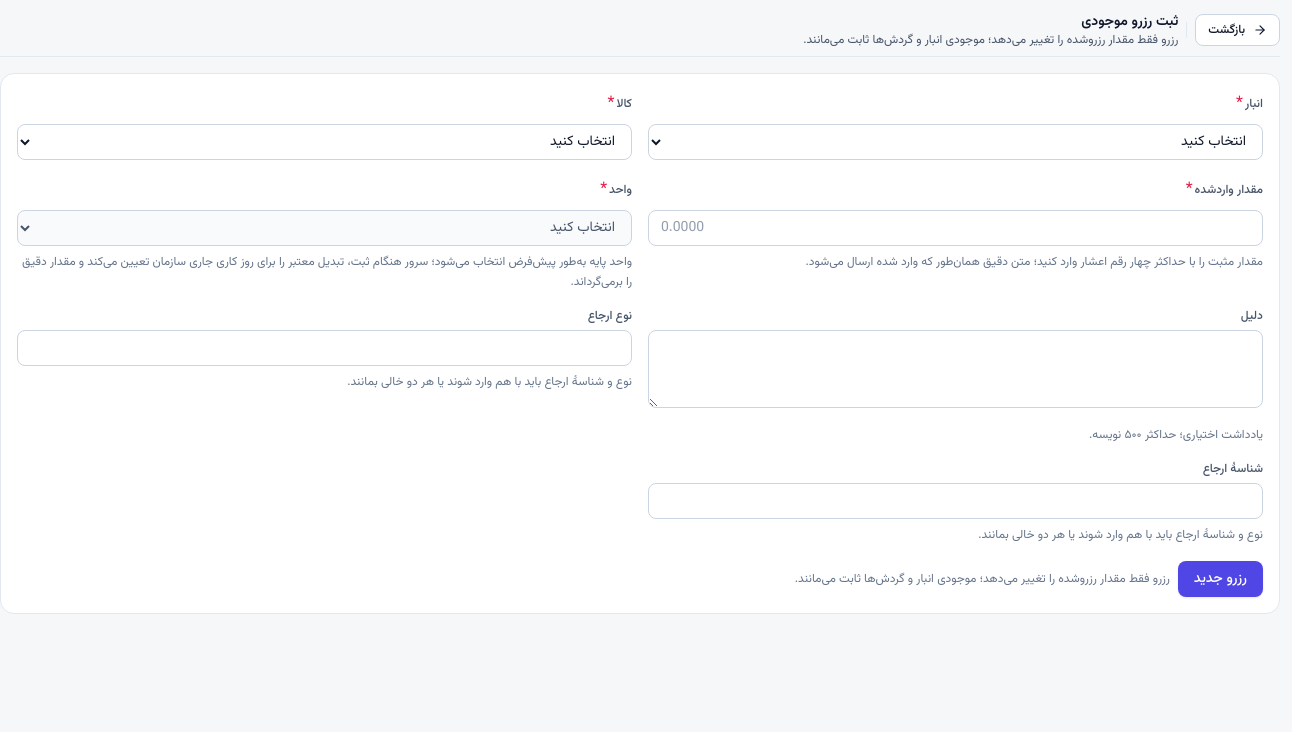
reservation create form › shows the localized operation-key conflict
Select "WH-01 — انبار مرکزی" in the dropdown labelled "انبار". click: (956, 142)
box: [648,124,1263,160]
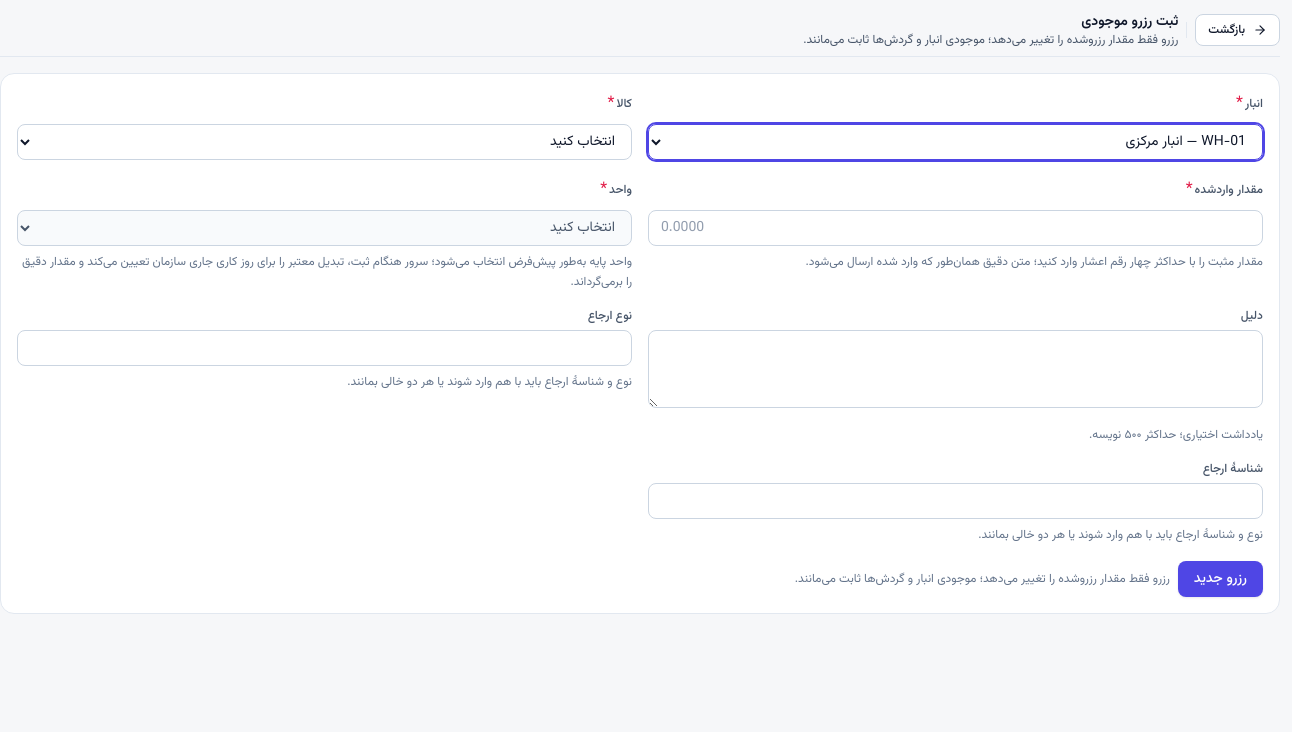
Select "KAL-01 — کالای نمونه" in the dropdown labelled "کالا". click: (324, 142)
box: [17,124,632,160]
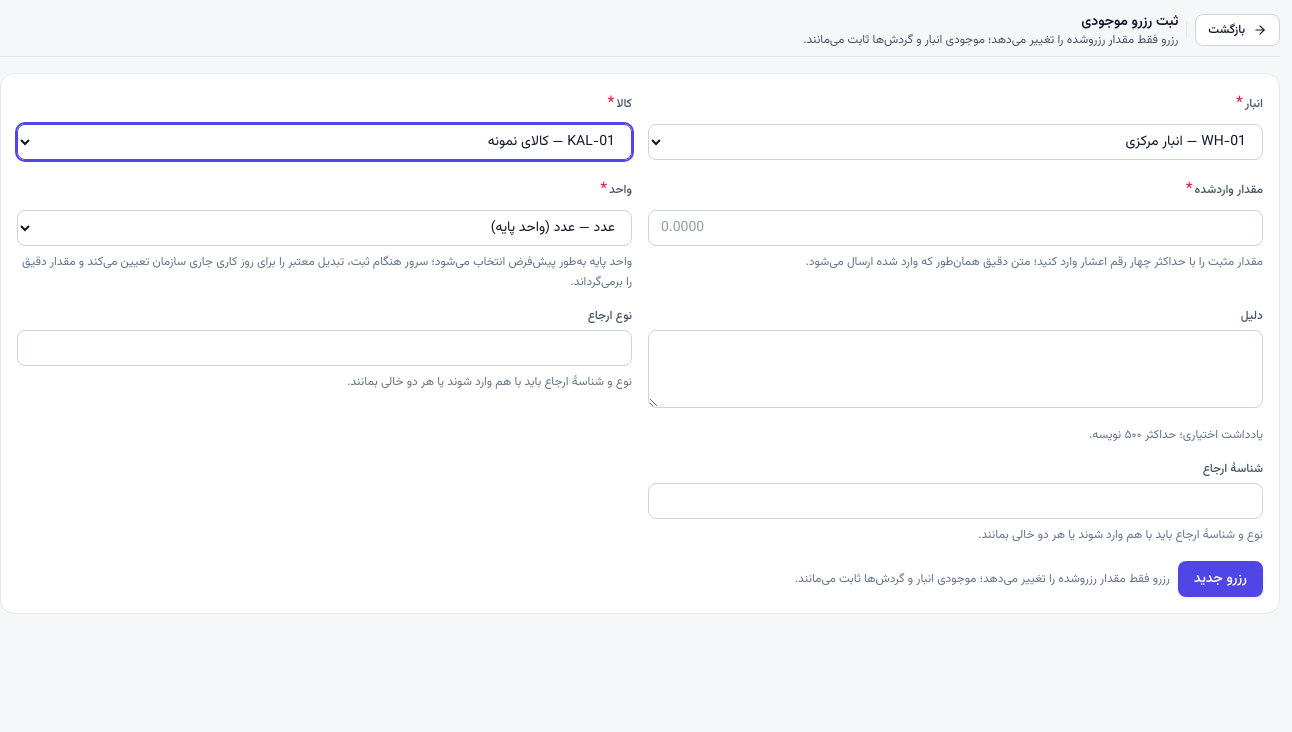
Type "2.5000" into the field labelled "مقدار واردشده". click: (956, 228)
box: [648,210,1263,246]
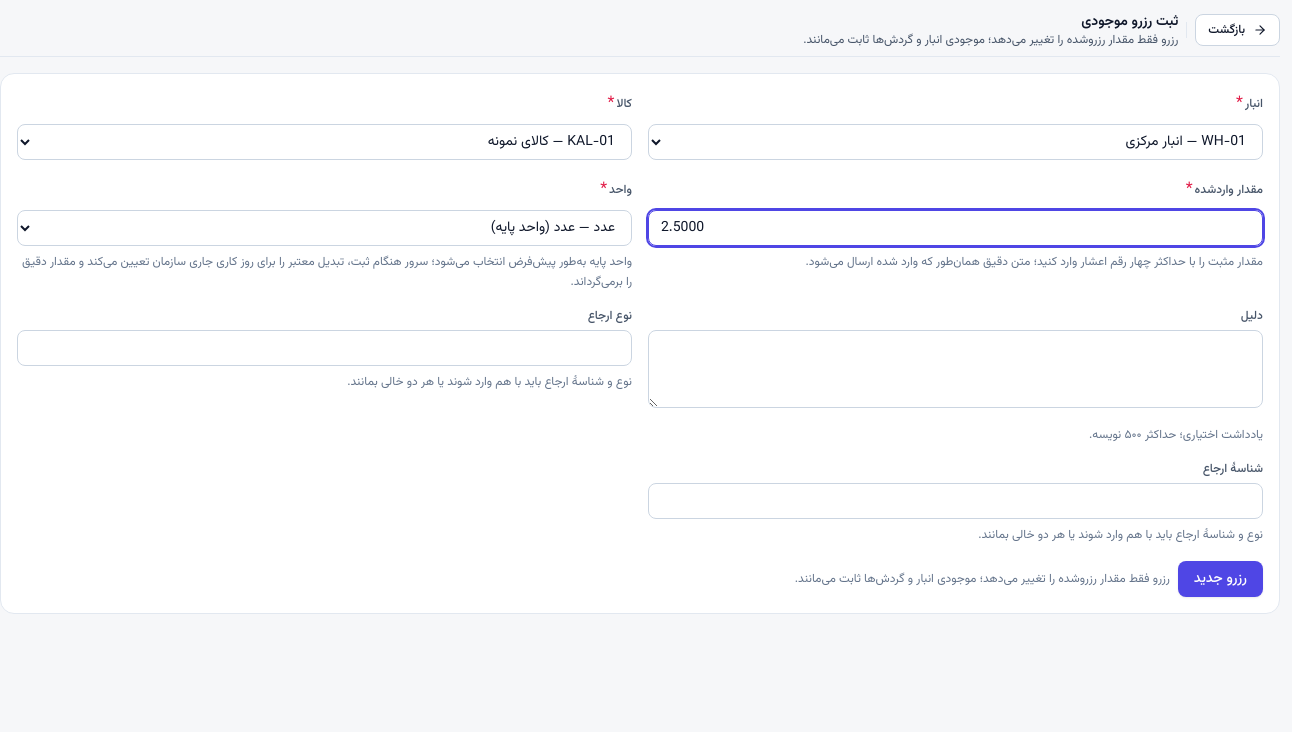
Select "عدد — عدد (واحد پایه)" in the dropdown labelled "واحد". click: (324, 228)
box: [17,210,632,246]
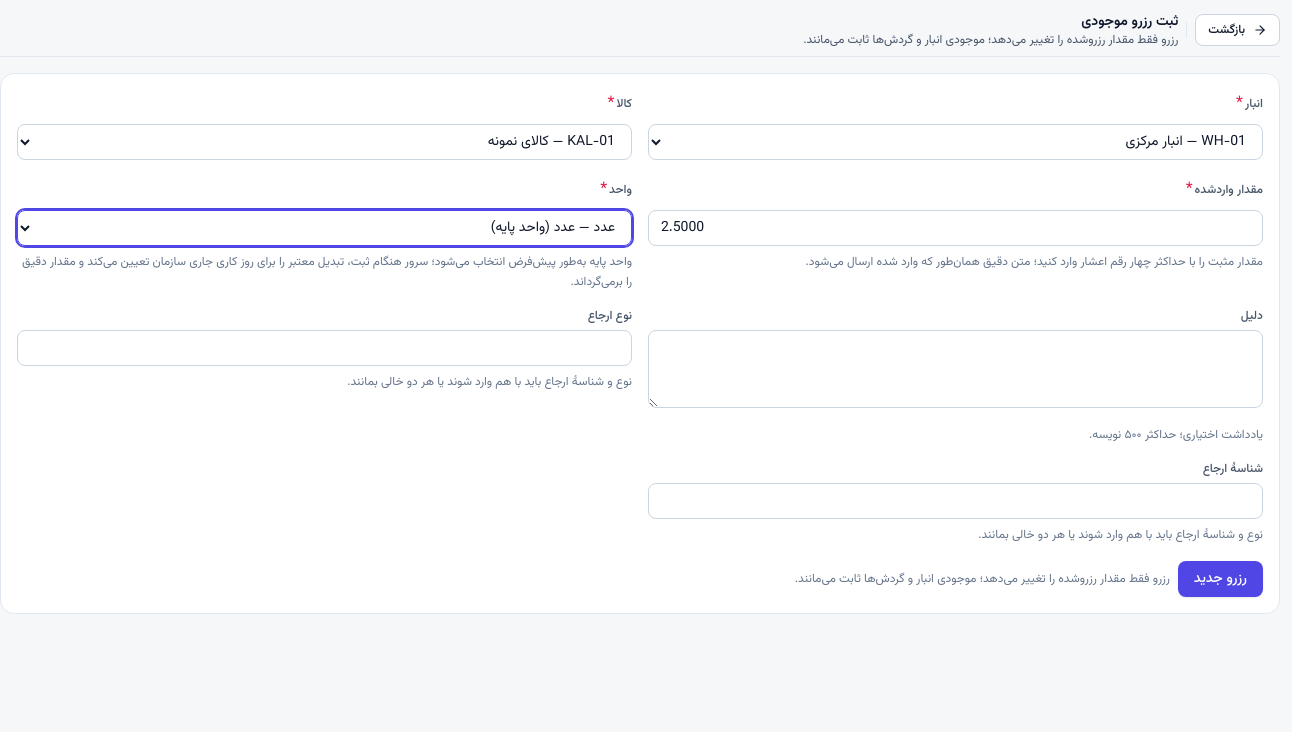
Click the button "رزرو جدید". click: (1220, 579)
box: [1178,561,1263,597]
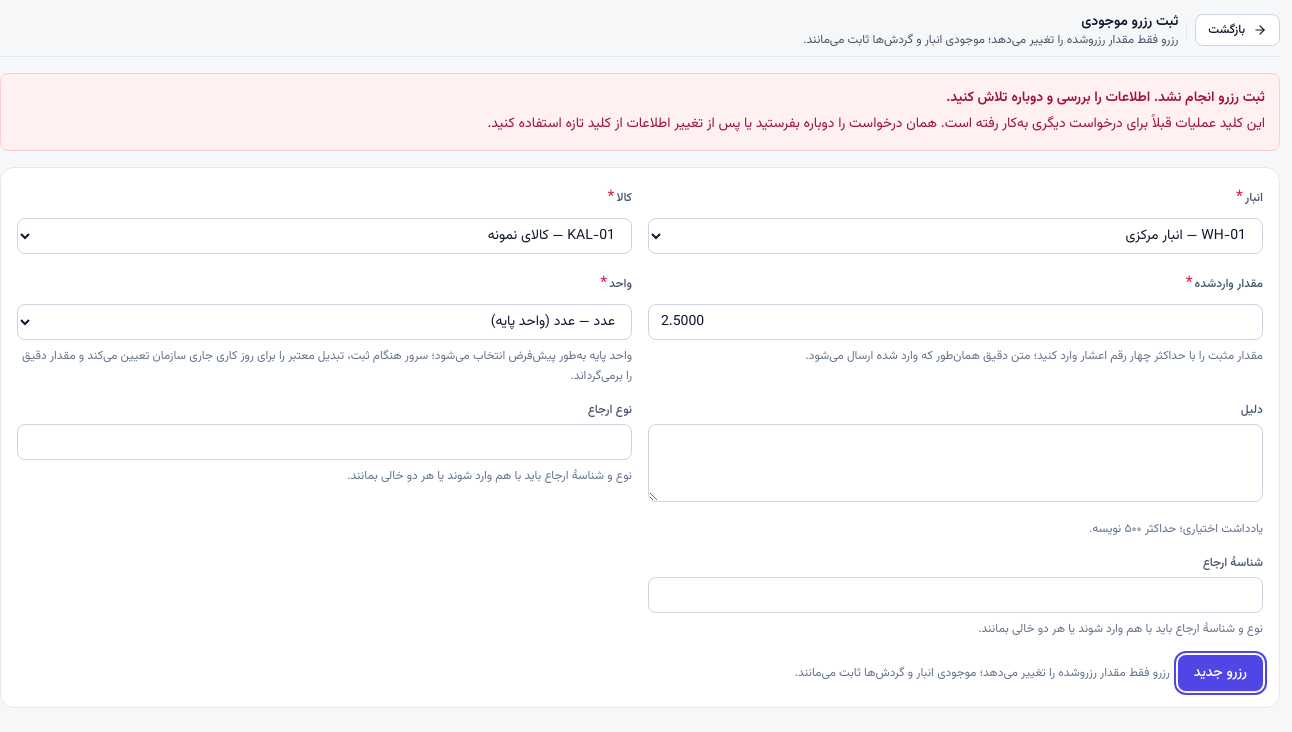
Check: the text "این کلید عملیات قبلاً برای درخواست دیگری به‌کار رفته است. همان درخواست را دوباره بفرستید یا پس از تغییر اطلاعات از کلید " is shown, box [488,113,1265,135]
